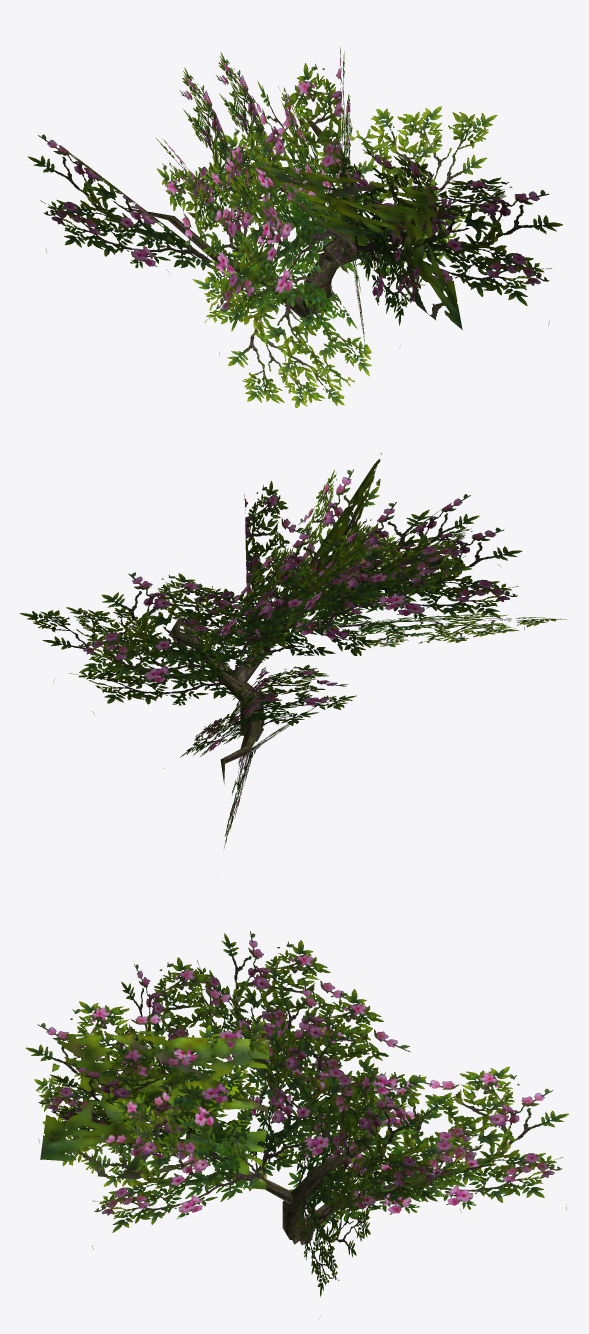
The model's file is fb_chun_shu02_55_37_0695out.fbx.
3 views of the same model, one above another, from view 1: azimuth 30°, elevation 25°; view 2: azimuth 150°, elevation 25°; view 3: azimuth 270°, elevation 25° (orthographic). The views are drawn at different scales.
Visible parts, largest first — view 1: 0000_fb_chun_shu02, 0001_fb_chun_shu02; view 2: 0000_fb_chun_shu02, 0001_fb_chun_shu02; view 3: 0000_fb_chun_shu02, 0001_fb_chun_shu02.
Part boxes in pixels (x1=…): 0000_fb_chun_shu02: x1=28, y1=47, x2=562, y2=407; 0001_fb_chun_shu02: x1=119, y1=104, x2=361, y2=323; 0000_fb_chun_shu02: x1=19, y1=453, x2=566, y2=849; 0001_fb_chun_shu02: x1=168, y1=602, x2=327, y2=784; 0000_fb_chun_shu02: x1=25, y1=931, x2=568, y2=1296; 0001_fb_chun_shu02: x1=181, y1=1102, x2=495, y2=1244.
Bounding box in the file's own units: 7.92 × 5.6 × 9.74.
